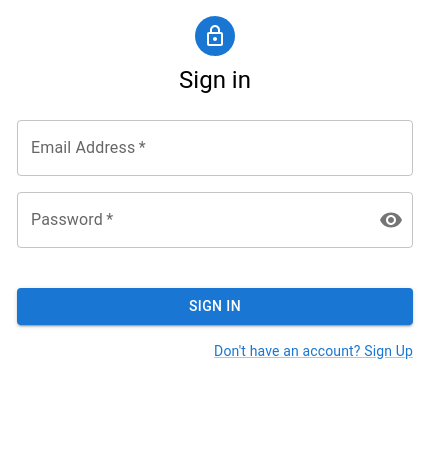
Test: <SignIn /> › Form validation › When submitting invalid password › When password is less than 8 characters › Password is validated & error message is rendered
Type "Pass1$" into the password field labelled "Password *" at (190, 220), box [17,192,363,248]
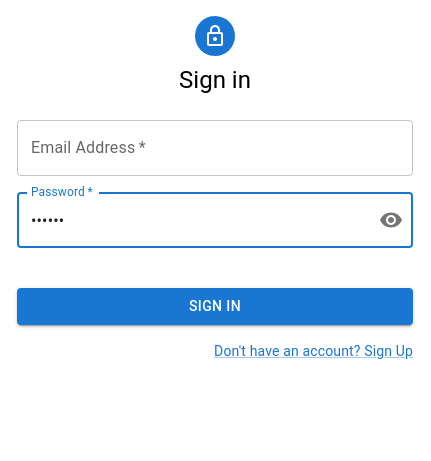
Click the button "Sign In" at (215, 306), box [17,288,413,324]
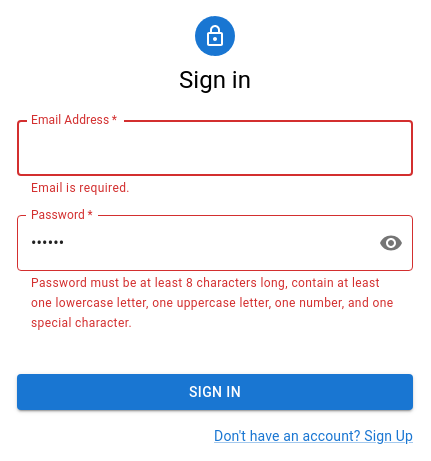
Result: the text "Password must be at least 8 characters long, contain at least one lowercase letter, one uppercase letter, one number, an" is shown at [31,276,394,330]
